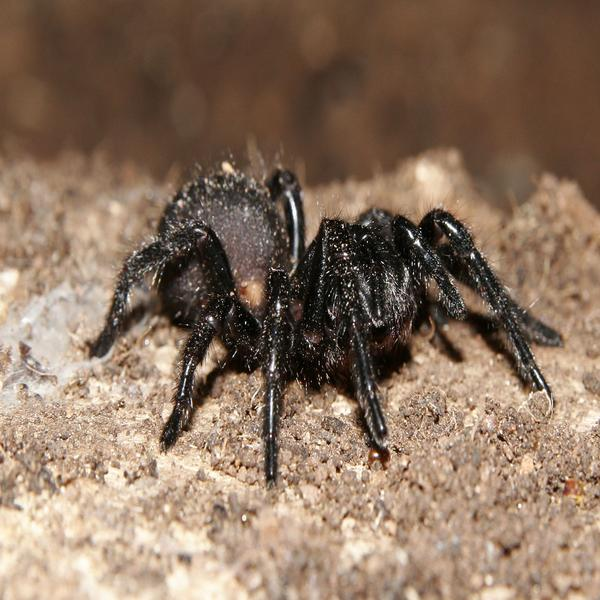Sydney_Funnel_Web_Spider: (91, 163, 562, 475)
